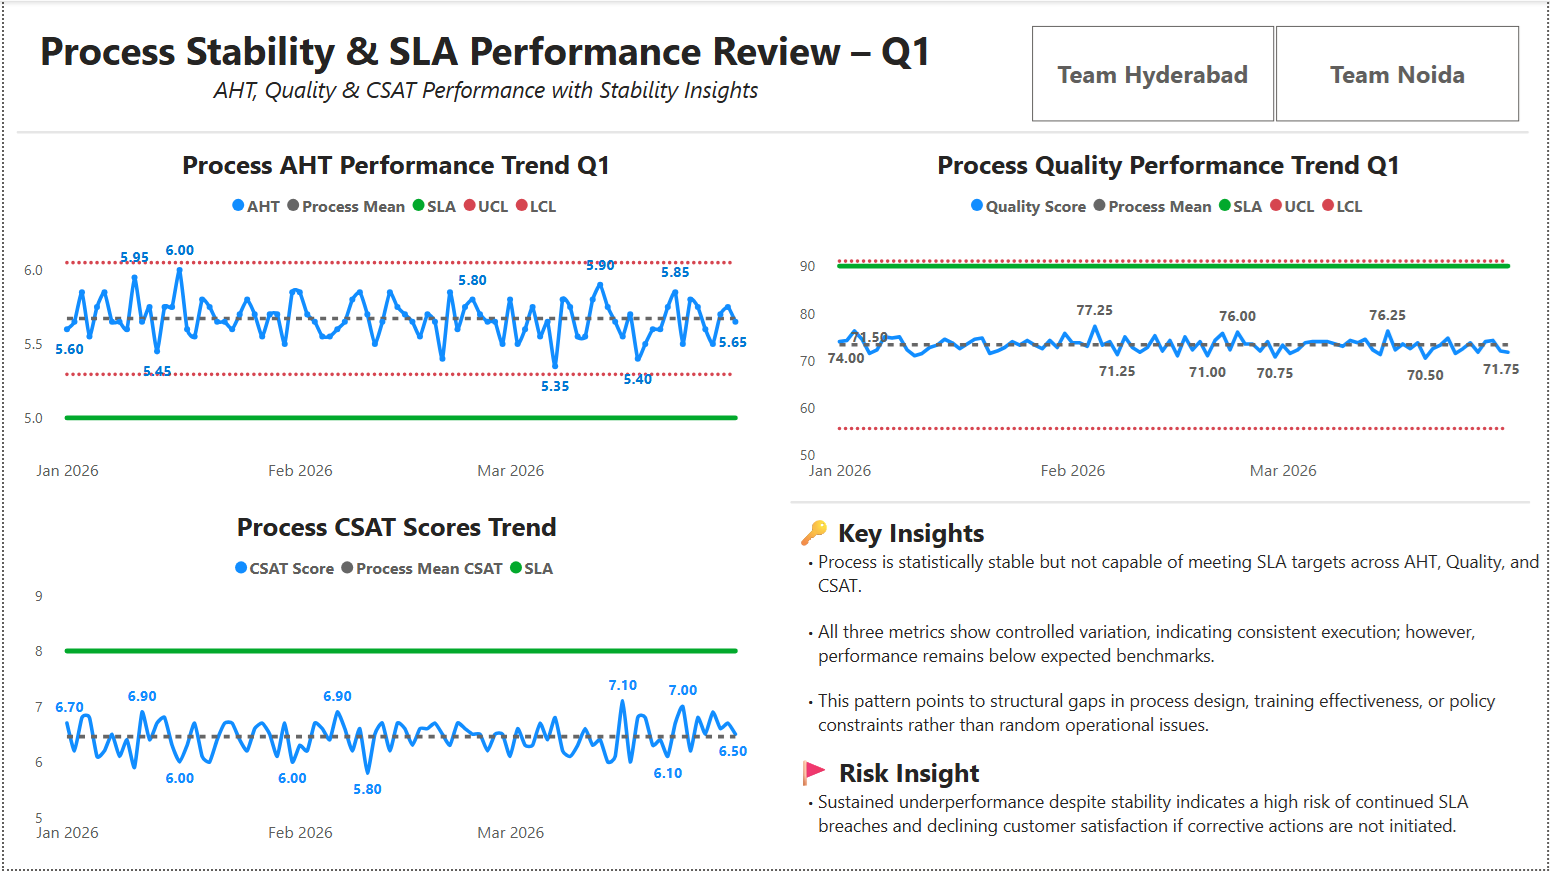

The page's visual inventory and layout, read from the dashboard file:
{"tool":"powerbi","page":{"name":"Executive Summary","canvas":[1280,720],"ordinal":0},"visuals":[{"type":"lineChart","title":"Process AHT Performance Trend Q1","fields":{"Y":["_Measures.Avg AHT","_Measures.Mean_AHT","_Measures.SLA_AHT","_Measures.UCL","_Measures.LCL"],"Category":["Dim_Date.Date"]},"box":[11,120.8,628.5,288.2],"z":0},{"type":"lineChart","title":"Process Quality Performance Trend Q1","fields":{"Category":["Dim_Date.Date"],"Y":["_Measures.Quality Score","_Measures.Mean_Quality","_Measures.SLA_Quality","_Measures.UCL_Quality","_Measures.LCL_Quality"]},"box":[651.8,120.8,628.5,288.2],"z":1000},{"type":"lineChart","title":"Process CSAT Scores Trend","fields":{"Category":["Dim_Date.Date"],"Y":["_Measures.Avg CSAT","_Measures.Mean_CSAT","_Measures.SLA_CSAT"]},"box":[11,421.3,628.5,288.2],"z":2000},{"type":"textbox","box":[11,13.7,776.7,93.3],"z":3000},{"type":"textbox","box":[651.8,421.3,628.5,199],"z":4000},{"type":"slicer","fields":{"Values":["Process_Data.Team"]},"box":[826.1,13.7,454.2,93.3],"z":5000},{"type":"textbox","box":[651.8,620.2,628.5,89.2],"z":6000},{"type":"shape","box":[10.5,103.6,1254.6,10.5],"z":7000},{"type":"shape","box":[652.3,410.5,614,10.5],"z":8000}]}

Visuals, with their boxes in screenshot pixels (x1, y1, x2, y2), scaled from the page's 1280x720 canvas onto the 1550x871 screenshot:
"Process AHT Performance Trend Q1" lineChart: <bbox>13, 146, 774, 495</bbox>
"Process Quality Performance Trend Q1" lineChart: <bbox>789, 146, 1549, 495</bbox>
"Process CSAT Scores Trend" lineChart: <bbox>13, 510, 774, 858</bbox>
textbox: <bbox>13, 17, 954, 129</bbox>
textbox: <bbox>789, 510, 1549, 750</bbox>
slicer - Process_Data.Team: <bbox>1000, 17, 1549, 129</bbox>
textbox: <bbox>789, 750, 1549, 858</bbox>
shape: <bbox>13, 125, 1532, 138</bbox>
shape: <bbox>790, 497, 1533, 509</bbox>
